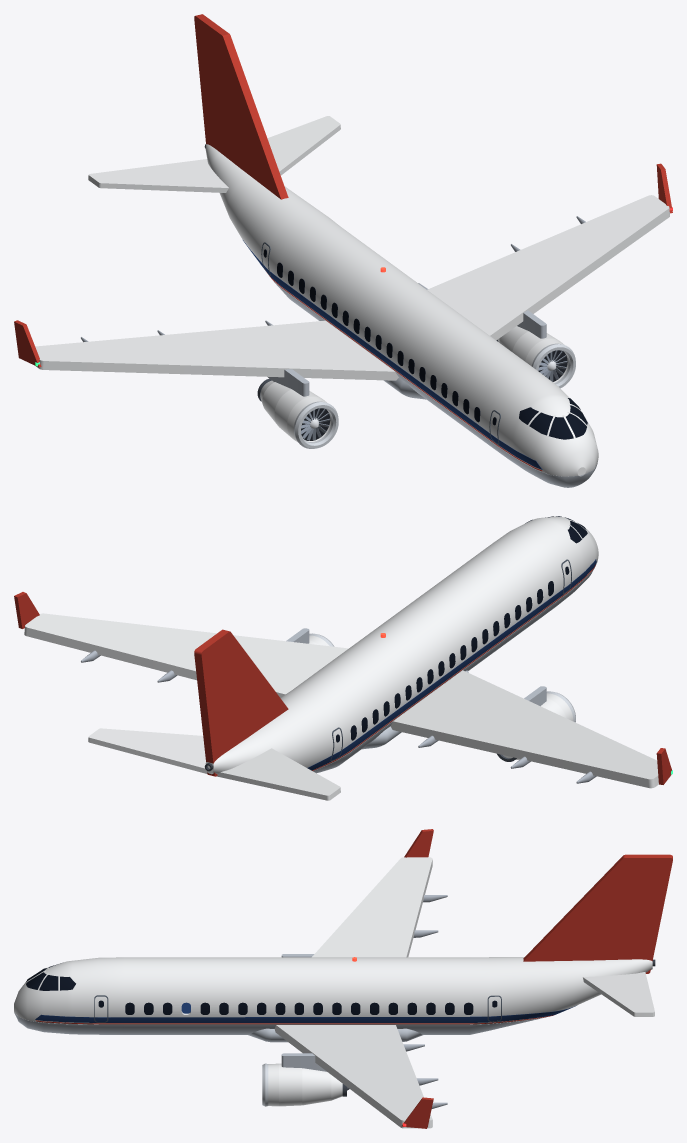
The model's file is airliner.glb.
3 views of the same model, one above another, from view 1: azimuth 30°, elevation 25°; view 2: azimuth 150°, elevation 25°; view 3: azimuth 270°, elevation 25° (orthographic). The views are drawn at different scales.
Visible parts, largest first — view 1: Fuselage, Wing_L.001, Wing_L, Fin, Stab_L.001, Stab_L, Cheatline_noink, Nacelle_R, Belly_noink, WindowsR_noink, Windscreen, Nacelle_L (+3 smaller); view 2: Fuselage, Wing_L.001, Wing_L, Fin, Stab_L.001, Stab_L, Cheatline_noink, WindowsR_noink, Belly_noink, Winglet_L, Nacelle_R, Pinstripe_noink; view 3: Fuselage, Fin, Wing_L, Wing_L.001, Belly_noink, Cheatline_noink, Nacelle_L, WindowsL_noink, Stab_L, Pinstripe_noink, Windscreen, Winglet_L (+3 smaller).
Part boxes in pixels (x1,y1,x2,y2): Fuselage: (205,144,598,476); Wing_L.001: (35,320,398,380); Wing_L: (427,195,669,340); Fin: (194,14,288,199); Stab_L.001: (88,159,228,192); Stab_L: (267,116,340,175); Cheatline_noink: (243,240,542,469); Nacelle_R: (260,380,331,441); Belly_noink: (272,279,597,487); WindowsR_noink: (277,262,480,422); Windscreen: (519,398,587,439); Nacelle_L: (497,326,568,382); Fuselage: (205,516,598,774); Wing_L.001: (390,670,658,788); Wing_L: (24,613,348,697); Fin: (194,629,288,776); Stab_L.001: (216,748,340,800); Stab_L: (88,728,207,773); Cheatline_noink: (307,559,596,770); WindowsR_noink: (350,581,553,740); Belly_noink: (313,561,597,773); Winglet_L: (14,592,39,628); Nacelle_R: (503,693,573,759); Pinstripe_noink: (312,564,595,770); Fuselage: (14,957,652,1024); Fin: (523,854,672,973); Wing_L: (274,1025,432,1128); Wing_L.001: (312,857,432,957); Belly_noink: (14,1012,546,1034); Cheatline_noink: (35,1002,576,1022); Nacelle_L: (268,1063,342,1106); WindowsL_noink: (125,1002,473,1014); Stab_L: (583,972,654,1016); Pinstripe_noink: (36,1015,553,1024); Windscreen: (26,963,75,990); Winglet_L: (401,1097,433,1128).
Size of the model in its own units: 12.28 by 4.19 by 12.61.
